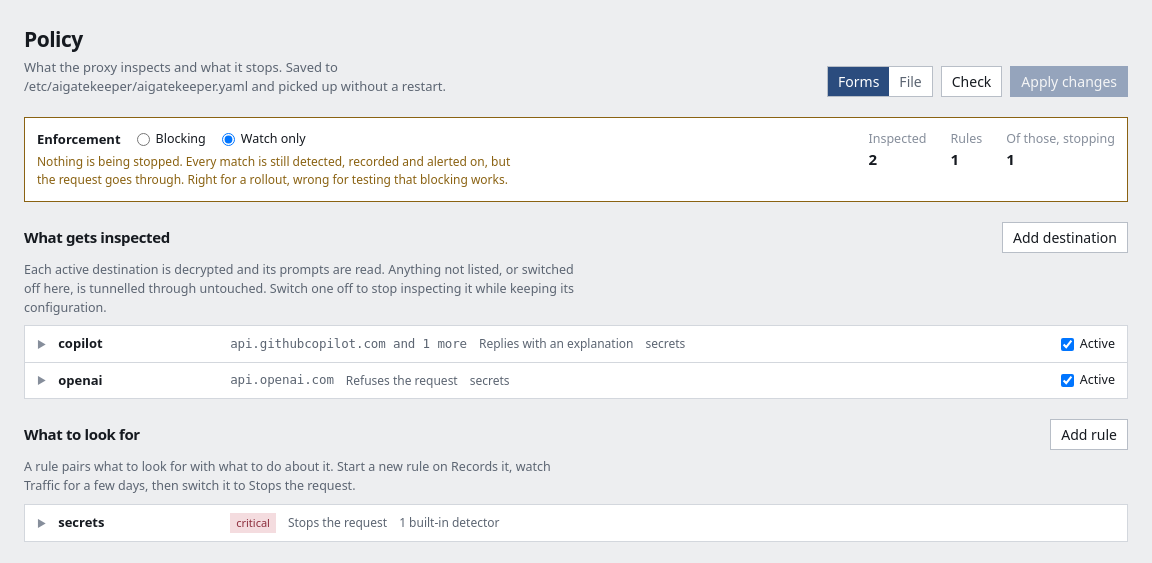
Scenario: Policy › shows a retired detector the rule still uses, with a way off it
Check: the element "What to look for" is shown, box [24,419,1128,542]
Click the button "▶ secrets critical Stops the request 1 built-in detector".
click(81, 522)  # box [25,505,1115,541]
(page scrolled)
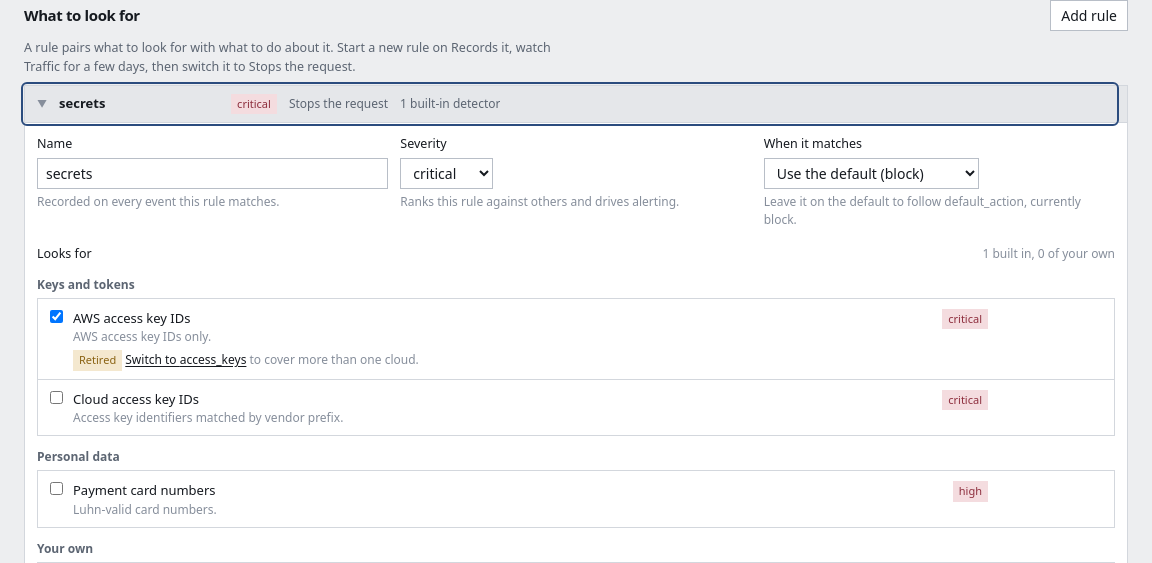
Check: the checkbox labelled "AWS access key IDs" is checked, box [50,310,63,323]
Click the button "Switch to access_keys".
click(186, 360)  # box [125,351,246,369]
(page scrolled)
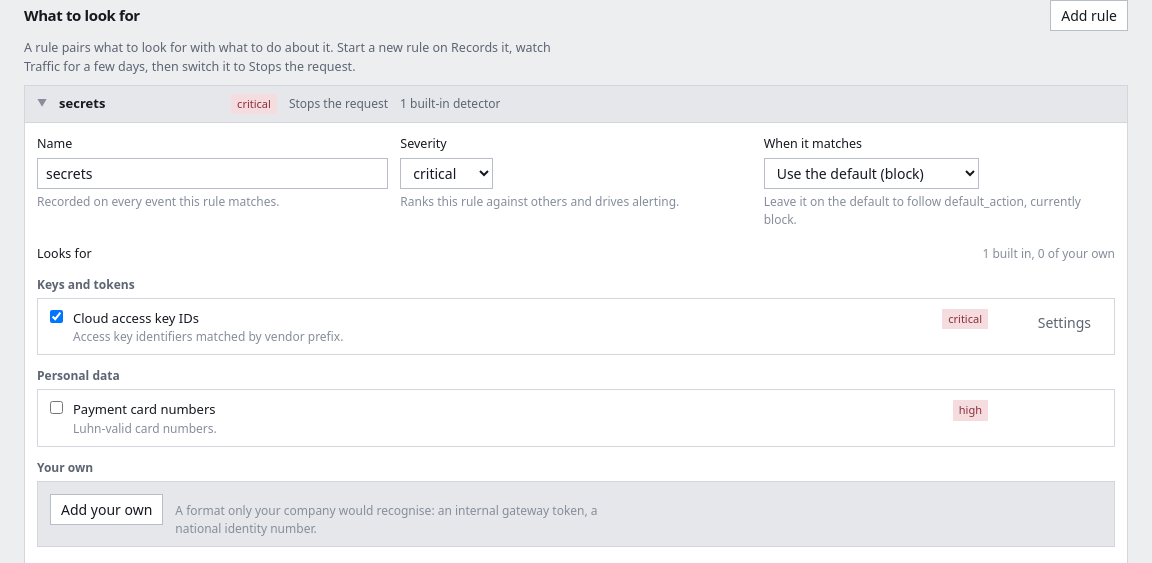
Check: the checkbox labelled "Cloud access key IDs" is checked, box [50,310,63,322]
Check: the label labelled "AWS access key IDs" is gone
